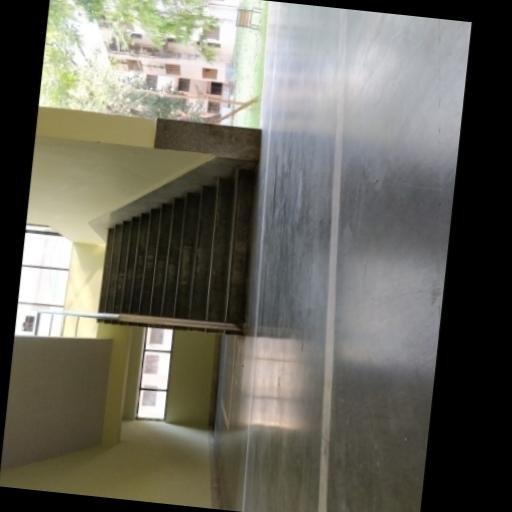stairs: (99, 170, 255, 327)
